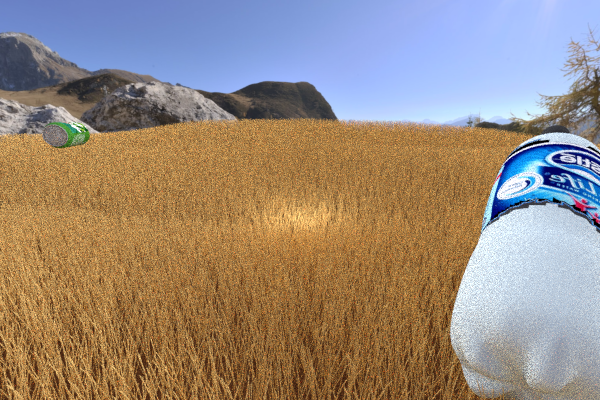Plastic Bottle: (450, 125, 600, 400), (41, 122, 89, 148)
